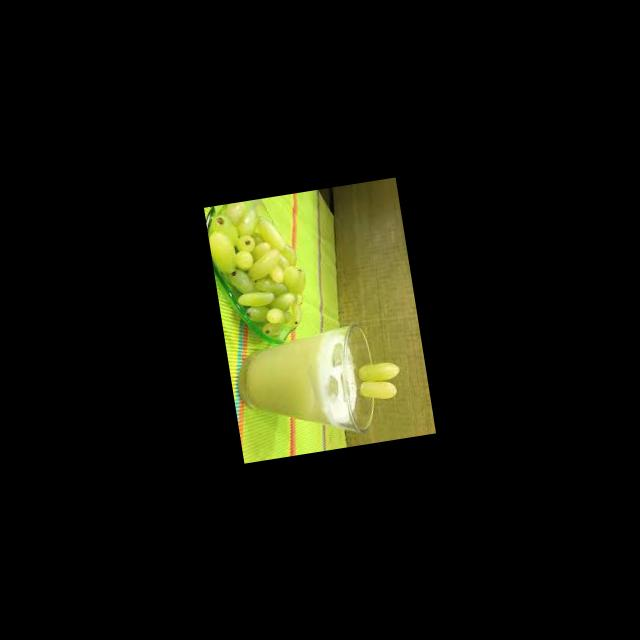grape: (204, 193, 316, 344)
